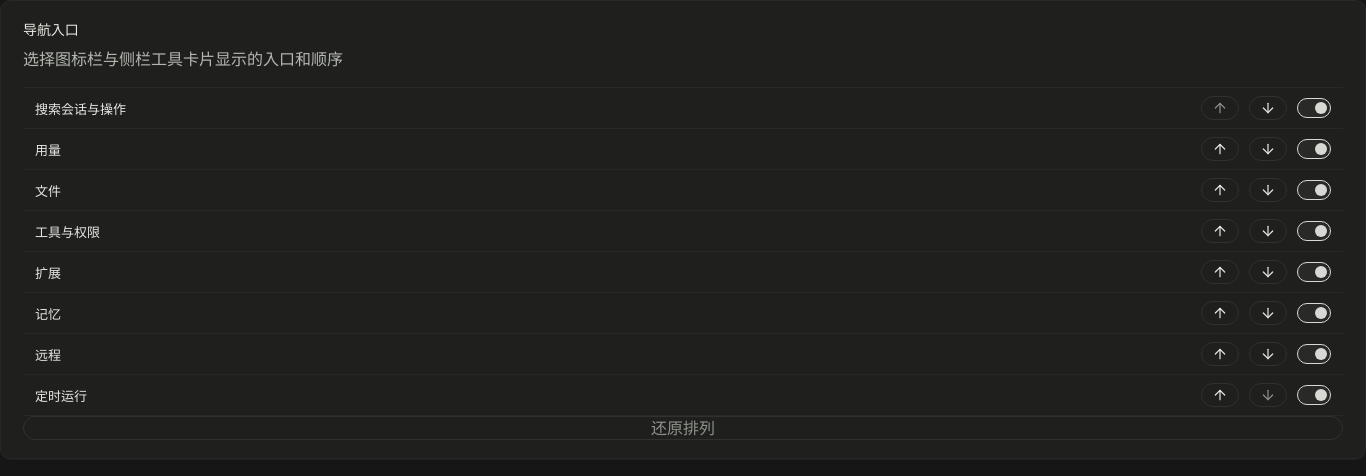
hides a destination from the rail when its switch is turned off, and brings it back
Later steps or results of the test are not shown.
Click the switch named "显示：记忆": [1314, 313] box 1297,303 -> 1331,323
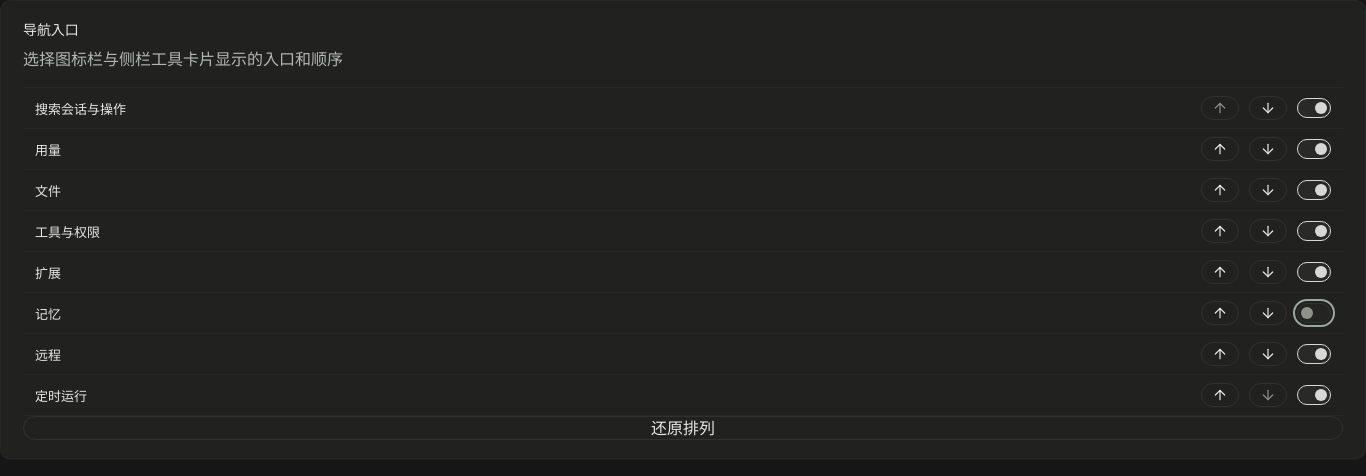
Expected: the switch named "显示：记忆" is not checked, 1297,303 -> 1331,323
